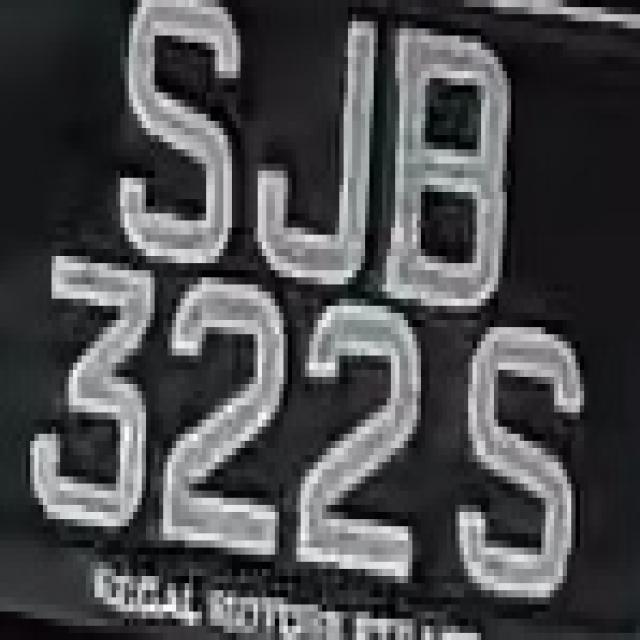2: (150, 256, 301, 590), (284, 263, 429, 597)
3: (43, 206, 146, 548)
B: (395, 35, 524, 313)
J: (258, 14, 378, 306)
S: (455, 320, 597, 597), (107, 0, 258, 256)
